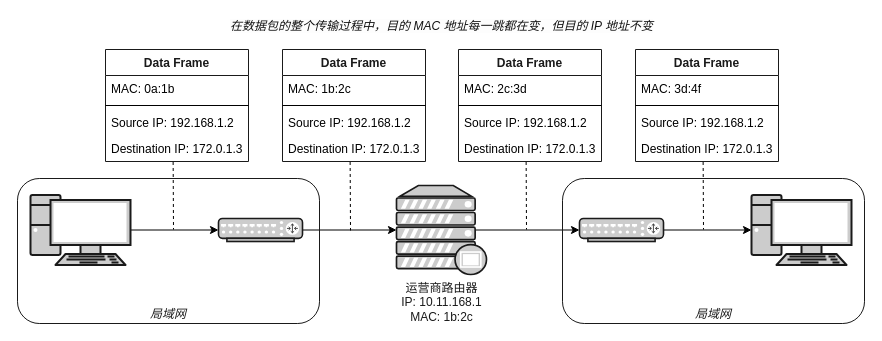
Some shapes in this 882 by 341 pixel diagram are drawn without their labels. Each missing label, with the centre of its shape:
局域网路由器 IP: 172.0.1.1 MAC: 2c:3d: the point at 621,229
局域网路由器 IP: 192.168.1.1 MAC: 0a:1b: the point at 260,229
源主机 IP: 192.168.1.2 MAC: 0a:0a: the point at 80,230
目的主机 IP: 172.0.1.3 MAC: 3d:4f: the point at 801,230
